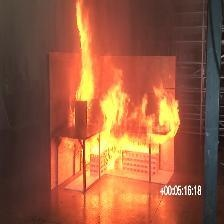fire: (47, 1, 185, 181)
